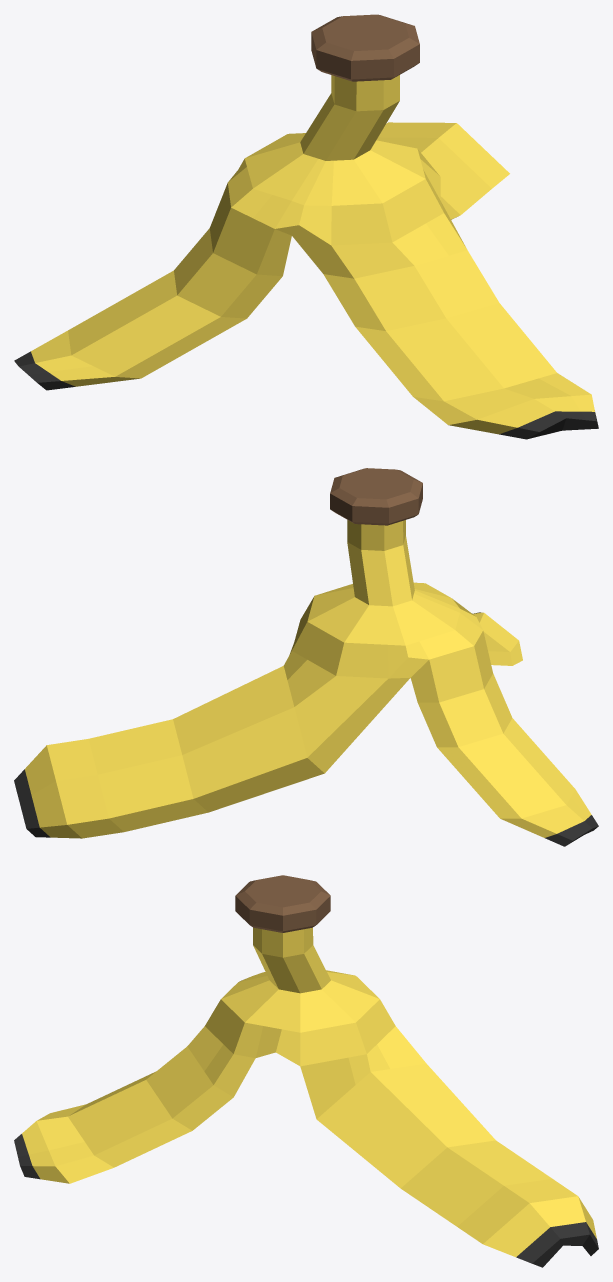
File: Badano.fbx
The picture shows the model from 3 angles, top to bottom: view 1: azimuth 30°, elevation 25°; view 2: azimuth 150°, elevation 25°; view 3: azimuth 270°, elevation 25°; orthographic projection. The views are drawn at different scales.
Parts seen in each view (by area): view 1: Cube; view 2: Cube; view 3: Cube.
Part boxes in pixels (bbox=[...]): Cube: bbox=[14, 14, 598, 439]; Cube: bbox=[14, 468, 598, 846]; Cube: bbox=[14, 875, 598, 1267].
Size of the model in its own units: 126 by 69.63 by 133.
